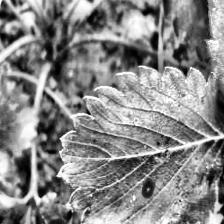Leaf Spot: (54, 64, 224, 224)
